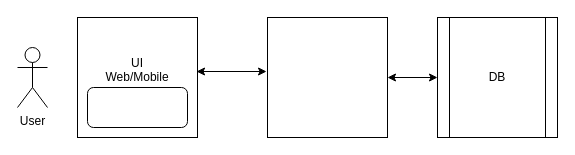
This 575x155 diagram has some shape labels left out. The shapes that lost their labels are listed below. From the top down, each one's centre as x and y in pixels, then its label:
[327,77]: API (Json)
[137,107]: AJAX
